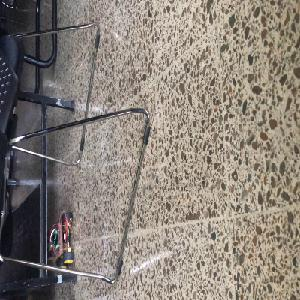Robot: (50, 212, 73, 268)
